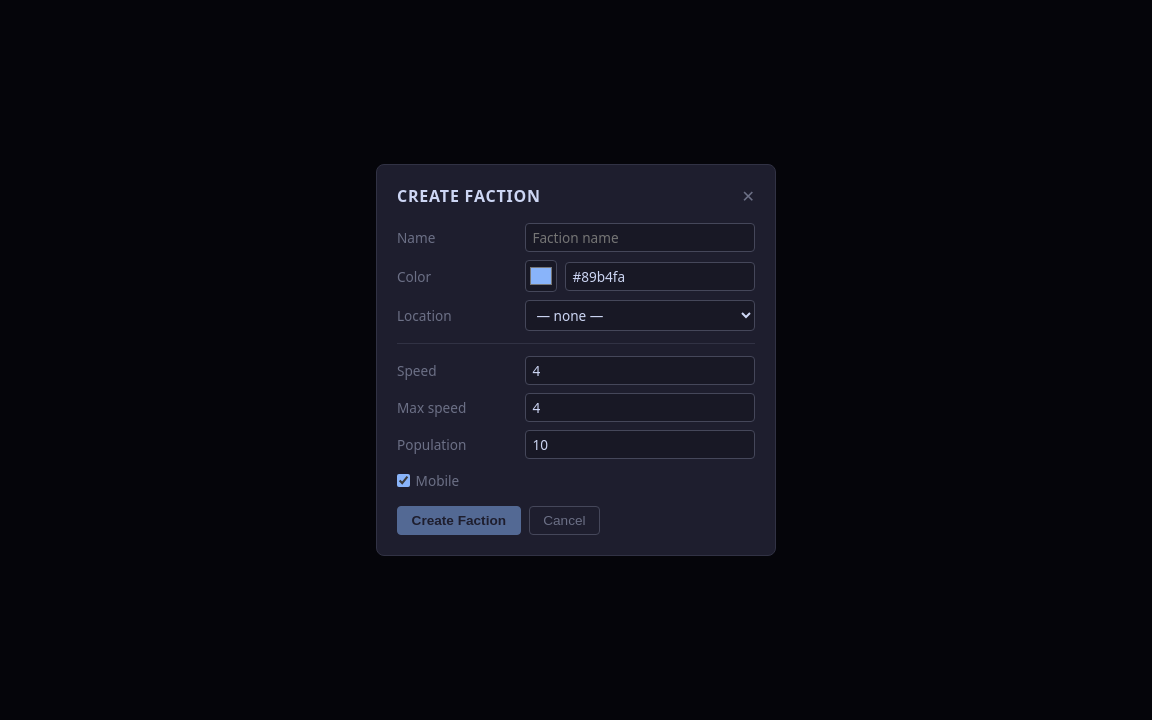
Test: AddFactionModal › disables Create until a name is entered
This screenshot has width=1152, height=720.
Expected: the button "Create Faction" is disabled, [397,506,521,535]
Type "Redhand" into the field with placeholder "Faction name".
click(640, 238); type("Redhand")  # box [525,223,755,252]
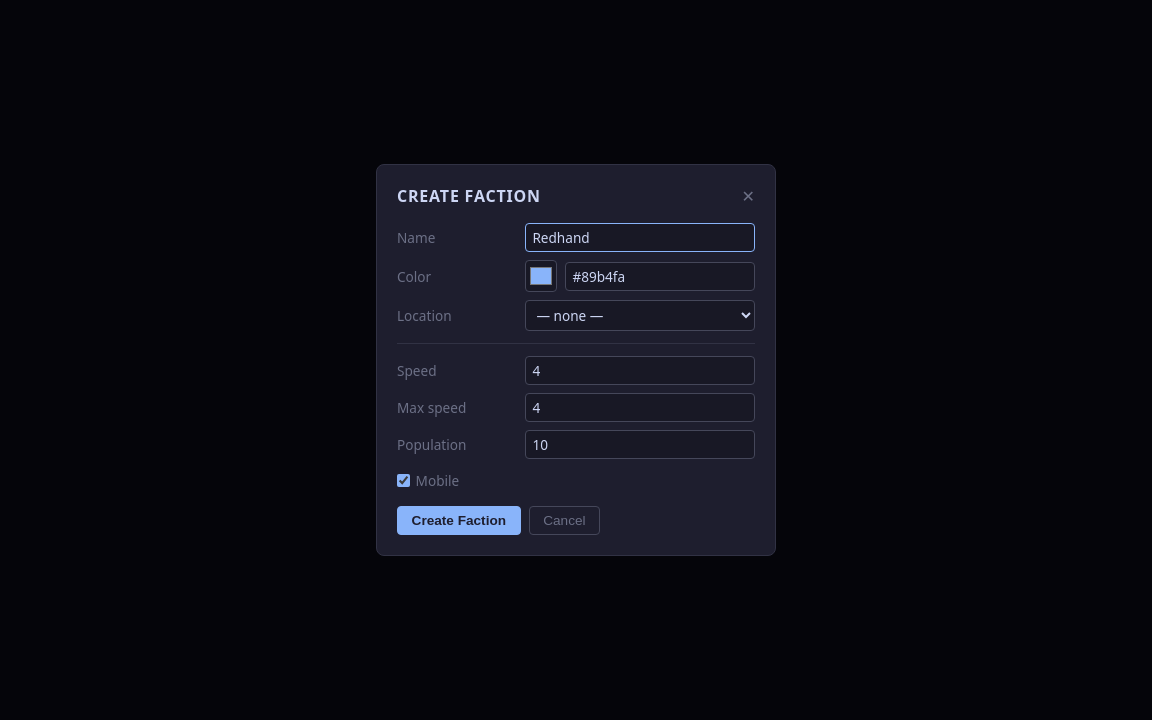
Expected: the button "Create Faction" is enabled, [397,506,521,535]
